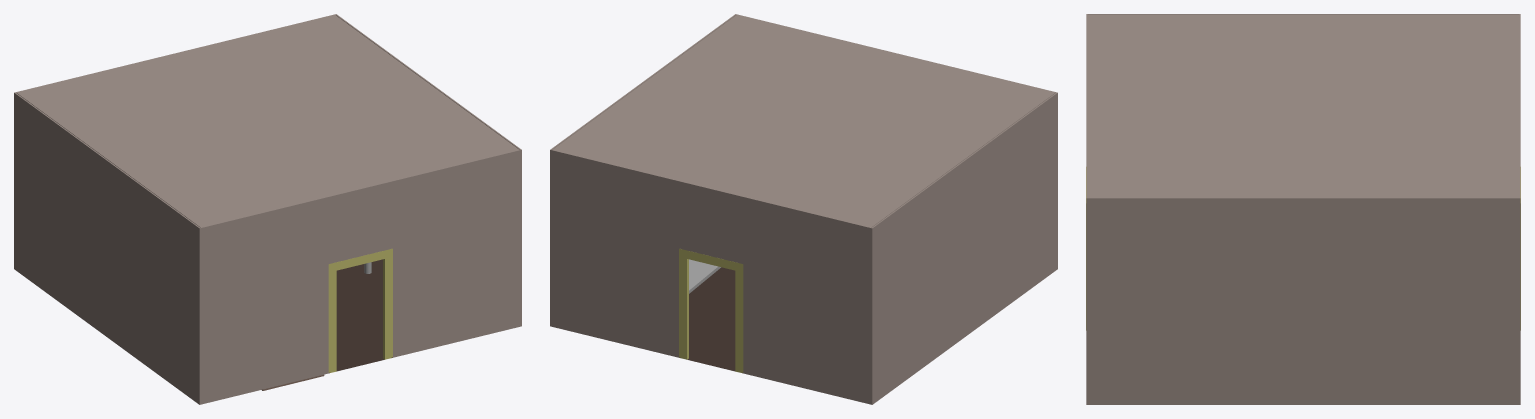
File: Room38_ResearchLaboratory.fbx
3 views of the same model, side by side, from view 1: azimuth 30°, elevation 25°; view 2: azimuth 150°, elevation 25°; view 3: azimuth 270°, elevation 25° (orthographic). The views are drawn at different scales.
Parts seen in each view (by area): view 1: Roof, WallSlicedPosZ, WallPosX, WallSlicedPosZ29, WallPosX22, Floor, DoorFramePosZ, WallNegX; view 2: Roof, WallSlicedNegZ, WallPosX, WallSlicedNegZ1, WallPosX22, Floor, DoorFrameNegZ, WallNegX, pCube241; view 3: Roof, WallNegX, WallNegX12, WallPosX.
Part boxes in pixels (bbox=[...]): Roof: bbox=[17, 15, 518, 227]; WallSlicedPosZ: bbox=[200, 149, 520, 364]; WallPosX: bbox=[14, 92, 200, 364]; WallSlicedPosZ29: bbox=[200, 286, 520, 404]; WallPosX22: bbox=[14, 229, 201, 404]; Floor: bbox=[329, 259, 392, 373]; DoorFramePosZ: bbox=[328, 248, 392, 372]; WallNegX: bbox=[336, 14, 521, 285]; Roof: bbox=[553, 15, 1054, 227]; WallSlicedNegZ: bbox=[550, 149, 871, 364]; WallPosX: bbox=[871, 92, 1057, 364]; WallSlicedNegZ1: bbox=[550, 286, 871, 404]; WallPosX22: bbox=[870, 229, 1057, 404]; Floor: bbox=[679, 267, 742, 373]; DoorFrameNegZ: bbox=[679, 248, 743, 372]; WallNegX: bbox=[550, 14, 735, 285]; pCube241: bbox=[689, 259, 720, 293]; Roof: bbox=[1088, 15, 1518, 197]; WallNegX: bbox=[1086, 197, 1520, 357]; WallNegX12: bbox=[1086, 357, 1520, 404]; WallPosX: bbox=[1086, 14, 1520, 14].
Size of the model in its own units: 802 by 426 by 800.
